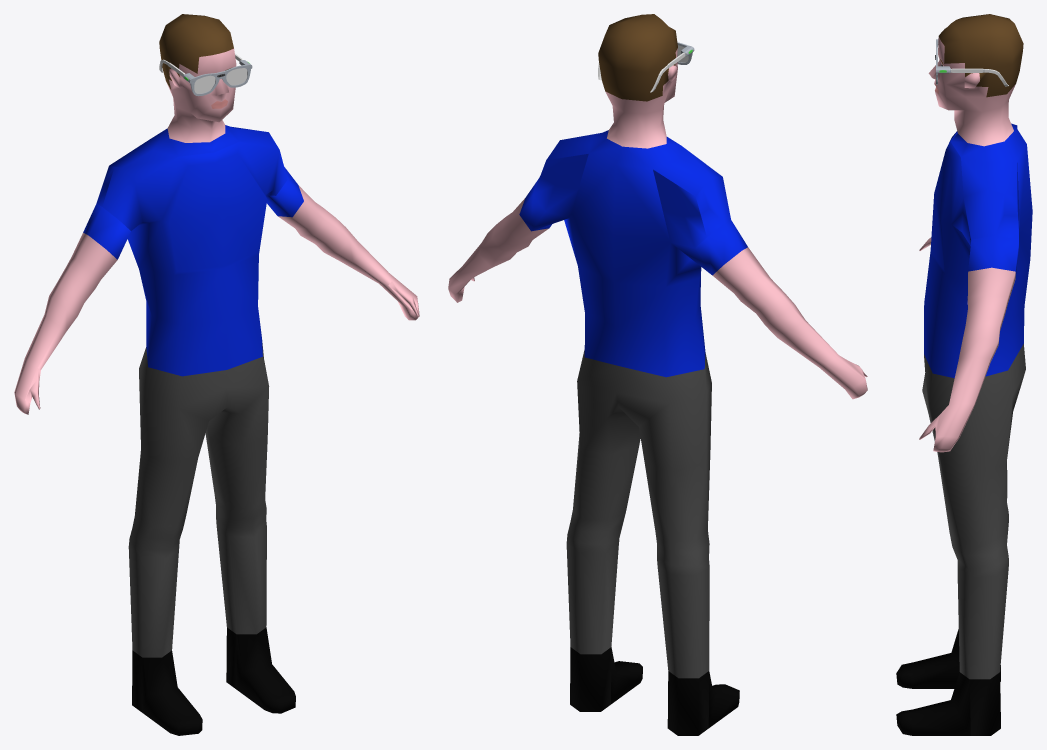
The model's file is NPCaf.fbx.
The picture shows the model from 3 angles, left to right: view 1: azimuth 30°, elevation 25°; view 2: azimuth 150°, elevation 25°; view 3: azimuth 270°, elevation 25°; orthographic projection. The views are drawn at different scales.
Visible parts, largest first — view 1: Body, Circle.003; view 2: Body; view 3: Body, Circle.003.
Boxes of the visible parts, <box> form: Body: <box>14,14,419,735</box>; Circle.003: <box>159,53,252,96</box>; Body: <box>448,14,867,735</box>; Body: <box>896,14,1032,735</box>; Circle.003: <box>935,39,1008,86</box>.
Bounding box in the file's own units: 114 × 182 × 32.73.
